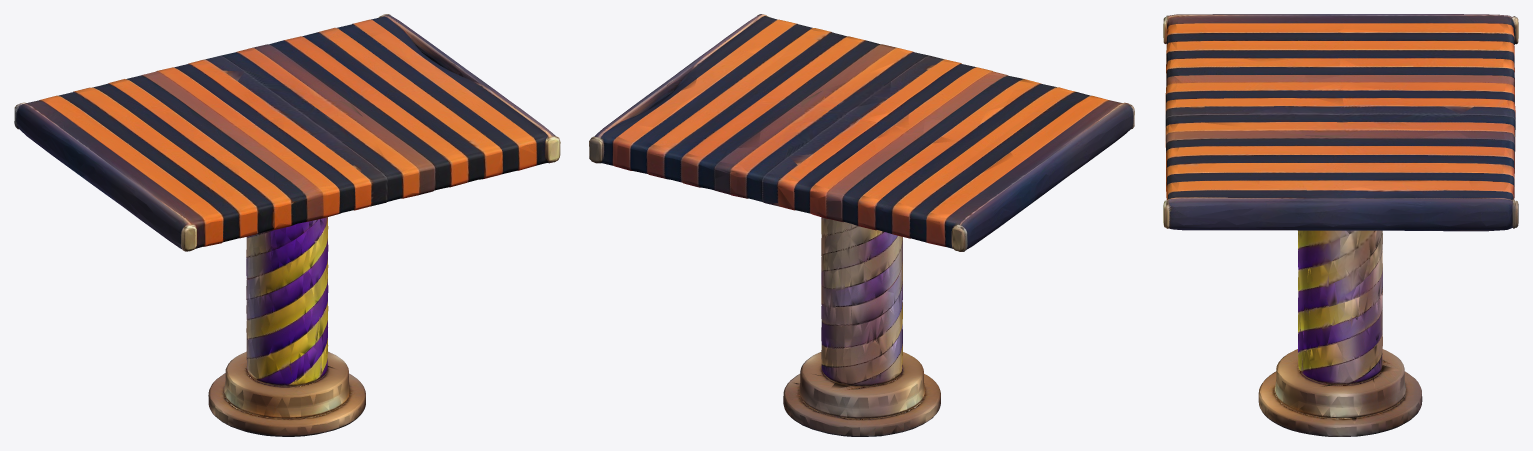
The model's file is platform_4.glb.
3 views of the same model, side by side, from view 1: azimuth 30°, elevation 25°; view 2: azimuth 150°, elevation 25°; view 3: azimuth 270°, elevation 25° (orthographic). The views are drawn at different scales.
Visible parts, largest first — view 1: tripo_node_c6080a7d-4f54-4b89-b648-af592e5238e5; view 2: tripo_node_c6080a7d-4f54-4b89-b648-af592e5238e5; view 3: tripo_node_c6080a7d-4f54-4b89-b648-af592e5238e5.
Part boxes in pixels (left/top/right/bottom): tripo_node_c6080a7d-4f54-4b89-b648-af592e5238e5: left=14, top=14, right=560, bottom=436; tripo_node_c6080a7d-4f54-4b89-b648-af592e5238e5: left=589, top=14, right=1134, bottom=436; tripo_node_c6080a7d-4f54-4b89-b648-af592e5238e5: left=1163, top=14, right=1518, bottom=436.
Size of the model in its own units: 0.9795 by 0.7091 by 0.7675.
1 material, 1 textured.
